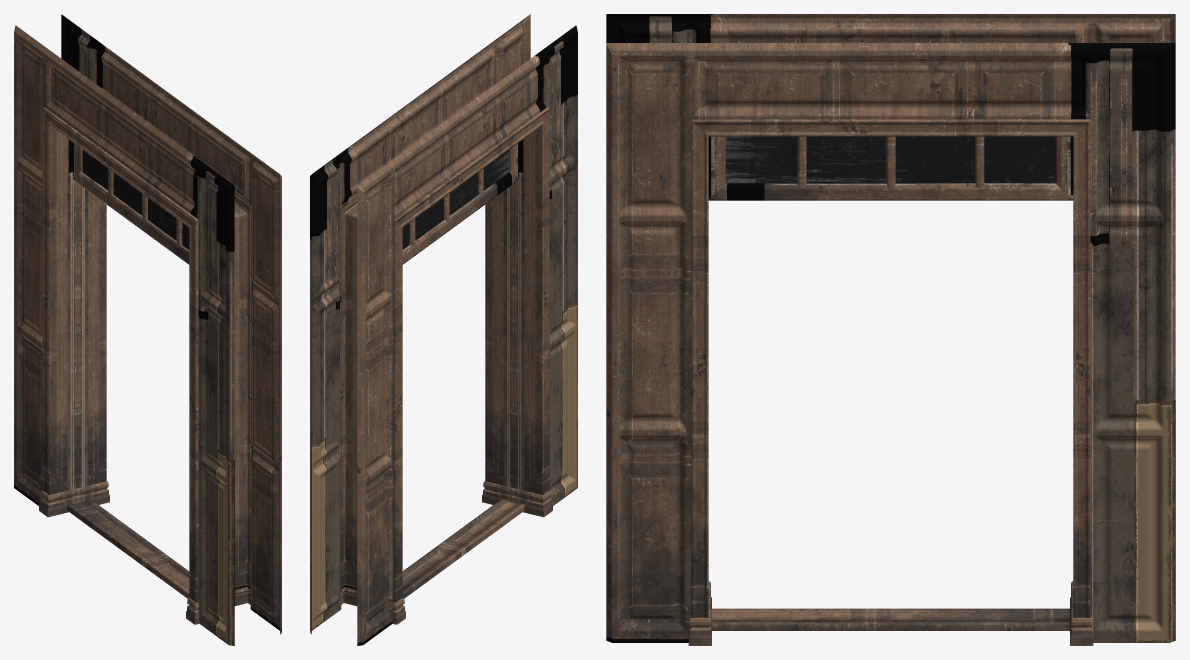
The model's file is SM_Door03_1_LOD0.glb.
3 renders of one model, left to right at view 1: azimuth 30°, elevation 25°; view 2: azimuth 150°, elevation 25°; view 3: azimuth 270°, elevation 25°, orthographic. The views are drawn at different scales.
Parts seen in each view (by area): view 1: SM_Door03_1_LOD0; view 2: SM_Door03_1_LOD0; view 3: SM_Door03_1_LOD0.
Part boxes in pixels (<box>): SM_Door03_1_LOD0: <box>14,14,281,645</box>; SM_Door03_1_LOD0: <box>310,14,577,645</box>; SM_Door03_1_LOD0: <box>606,14,1175,645</box>.
Bounding box in the file's own units: 0.5281 × 3.74 × 3.22.
Materials: 2 (2 with a texture image).
